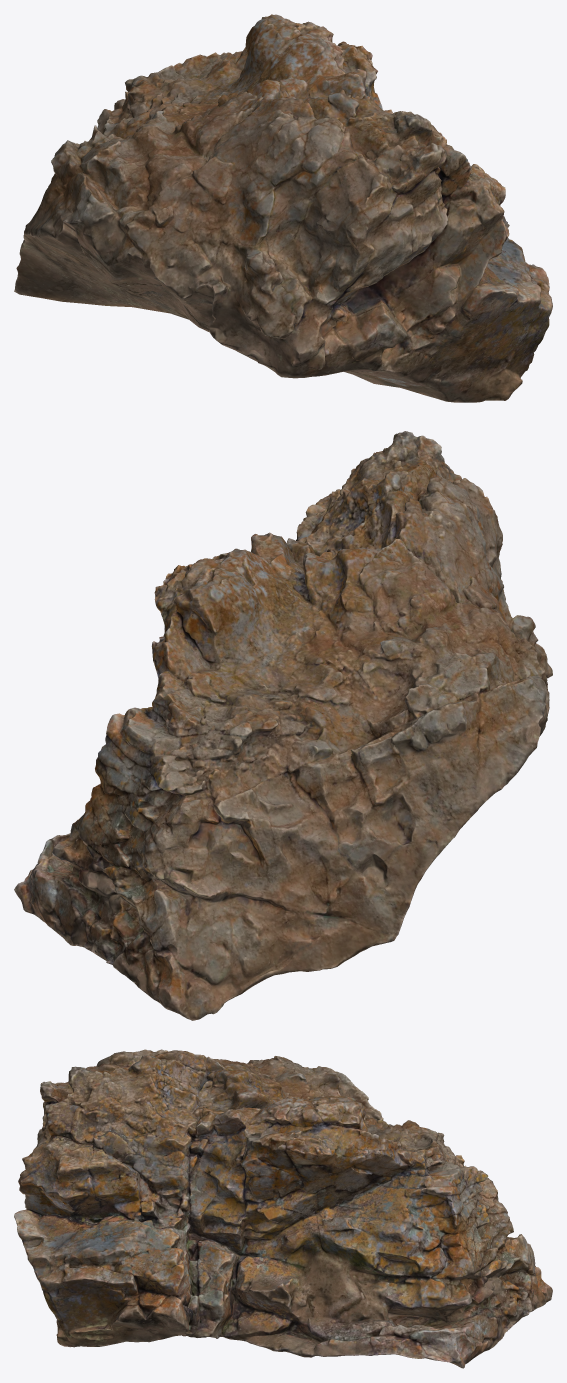
The model's file is boulder_01.glb.
The picture shows the model from 3 angles, top to bottom: view 1: azimuth 30°, elevation 25°; view 2: azimuth 150°, elevation 25°; view 3: azimuth 270°, elevation 25°; orthographic projection. The views are drawn at different scales.
Parts seen in each view (by area): view 1: boulder_01; view 2: boulder_01; view 3: boulder_01.
Part boxes in pixels (left/top/right/bottom): boulder_01: left=14, top=14, right=552, bottom=402; boulder_01: left=14, top=431, right=552, bottom=1020; boulder_01: left=14, top=1049, right=552, bottom=1368.
Bounding box in the file's own units: 1.27 × 1 × 1.83.
1 material, 1 textured.
